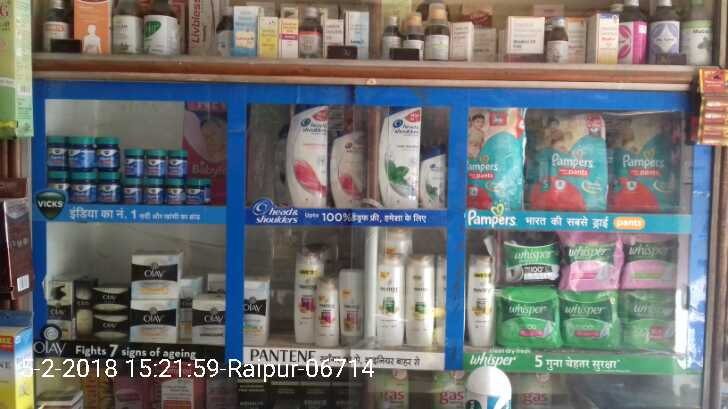beauty: (279, 103, 331, 212), (375, 107, 419, 214), (328, 117, 375, 207), (403, 251, 435, 351), (291, 251, 323, 346), (375, 246, 403, 347), (130, 253, 182, 300), (130, 301, 180, 349), (335, 268, 364, 343), (88, 285, 127, 339), (468, 253, 491, 338), (242, 276, 269, 346), (417, 148, 445, 212), (46, 279, 74, 340), (316, 278, 338, 353), (191, 298, 224, 345)
pharmacy: (519, 107, 608, 216), (461, 107, 524, 213), (606, 120, 679, 210), (493, 287, 563, 361), (500, 228, 577, 286), (559, 288, 621, 357), (553, 233, 622, 293), (619, 233, 677, 299), (619, 292, 674, 349), (92, 135, 121, 172), (91, 170, 119, 205), (43, 135, 68, 172), (68, 137, 92, 171), (71, 172, 95, 206), (121, 145, 144, 180), (45, 170, 69, 202), (118, 175, 142, 207), (144, 146, 167, 178), (166, 147, 187, 180), (187, 176, 208, 205), (164, 180, 189, 203), (142, 180, 163, 203)
